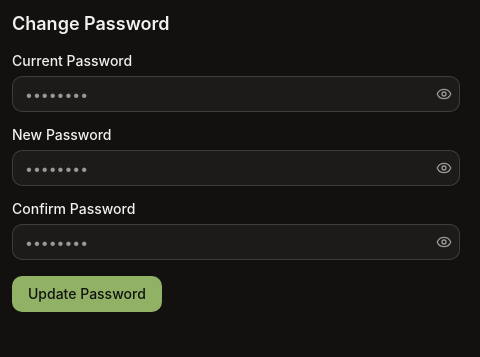
Test: ChangePassword › validates that current_password is required
In the password field with test id "new-password-input": (236, 168) top-left (12, 150), bottom-right (460, 186), type "newPassword456"
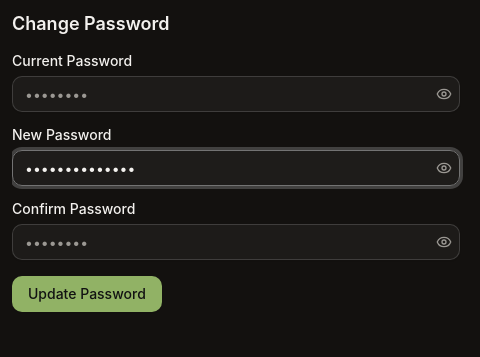
In the password field with test id "confirm-password-input": (236, 242) top-left (12, 224), bottom-right (460, 260), type "newPassword456"
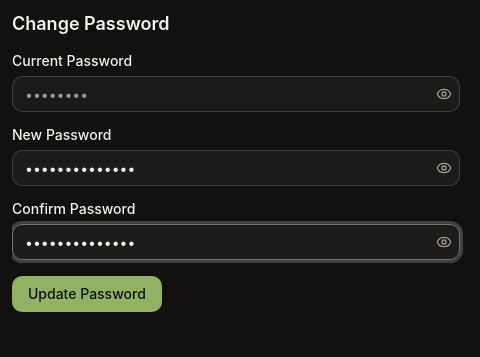
Click the button "Update Password": (87, 294) top-left (12, 276), bottom-right (162, 312)
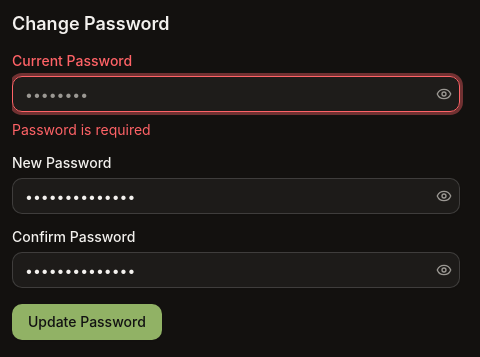
Now the text "Password is required" is shown, box top-left (12, 121), bottom-right (151, 138)
